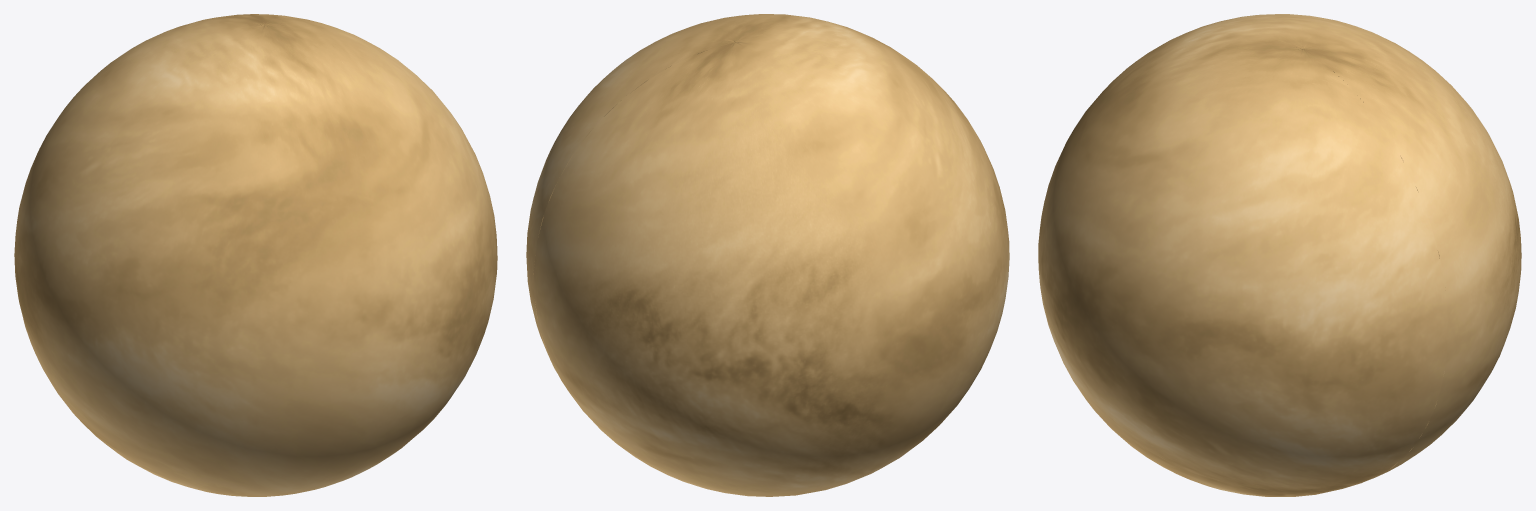
File: venus.glb
3 views of the same model, side by side, from view 1: azimuth 30°, elevation 25°; view 2: azimuth 150°, elevation 25°; view 3: azimuth 270°, elevation 25° (orthographic).
Visible parts, largest first — view 1: Venus; view 2: Venus; view 3: Venus.
Part boxes in pixels (x1,y1,x2,y2): Venus: (14,14,497,496); Venus: (526,14,1009,496); Venus: (1038,14,1521,496).
Size of the model in its own units: 2.8 by 2.8 by 2.8.
1 material, 1 textured.
